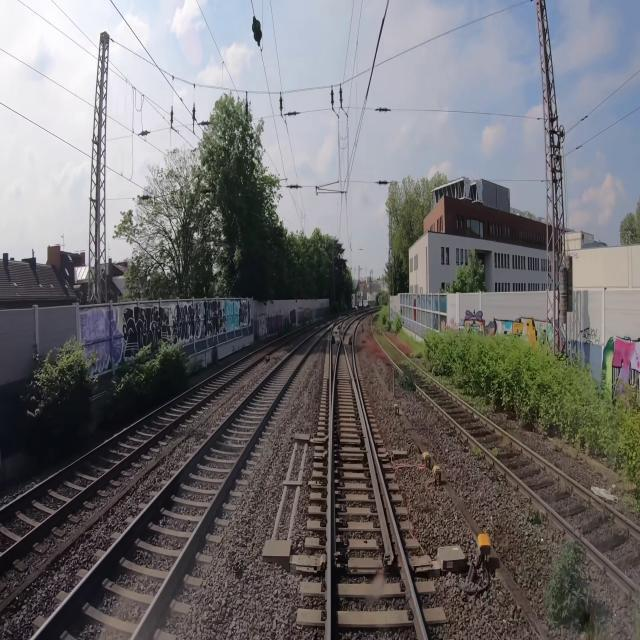Plant: (544, 538, 596, 638), (422, 354, 496, 412), (400, 367, 416, 394), (471, 444, 483, 457), (491, 446, 500, 455)
